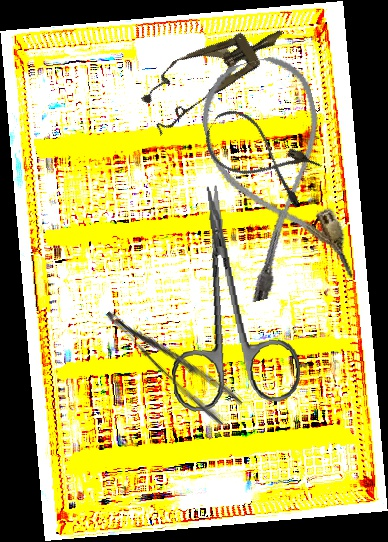Cannula: (190, 49, 358, 304), (195, 101, 324, 212)
Dressing Forceps: (103, 289, 245, 429)
Iris Scissors: (153, 177, 303, 414)
Speculum: (131, 7, 297, 136)
